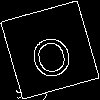O: (25, 25, 75, 82)
